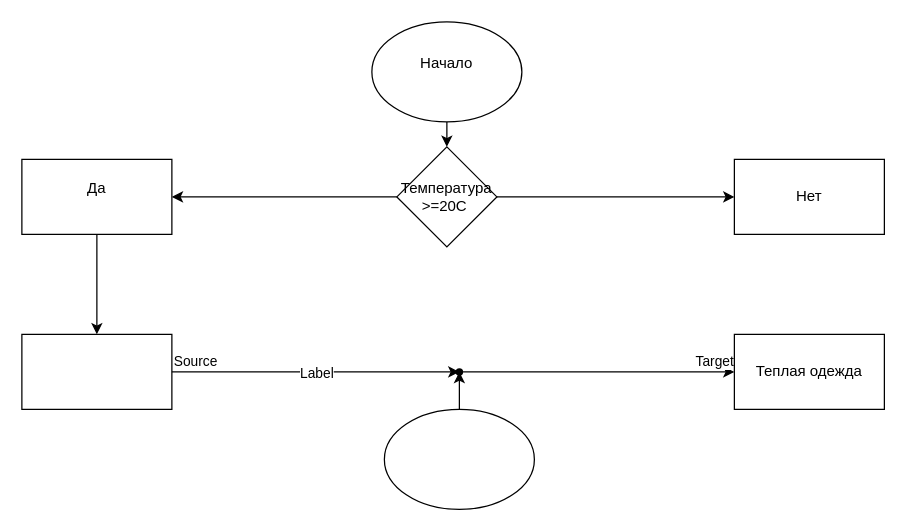
Some shapes in this 906 by 531 pixel diagram are drawn without their labels. The centre of each missing label's shape, as x and y in pixels:
Конец: (x=458, y=458)
Легкая одежда: (x=96, y=371)
